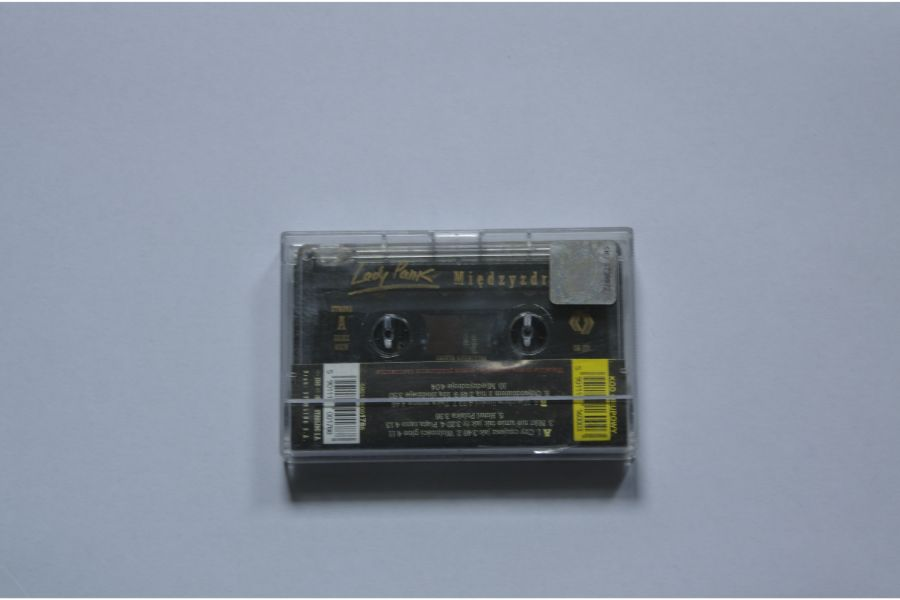album: (279, 225, 636, 461)
